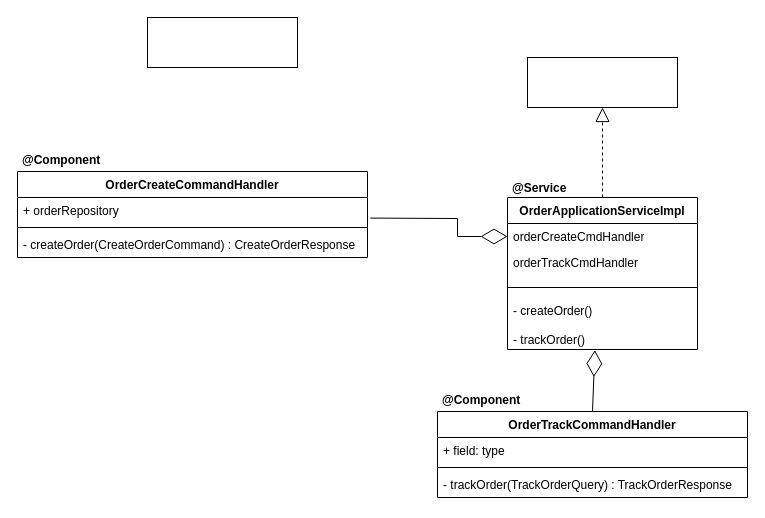
Some shapes in this 765 by 518 pixel diagram are drawn without their labels. The centre of each missing label's shape, as x and y in pixels:
"«interface» OrderApplicationService" belongs at (602,82).
"«interface» OrderRepository" belongs at (222,42).
